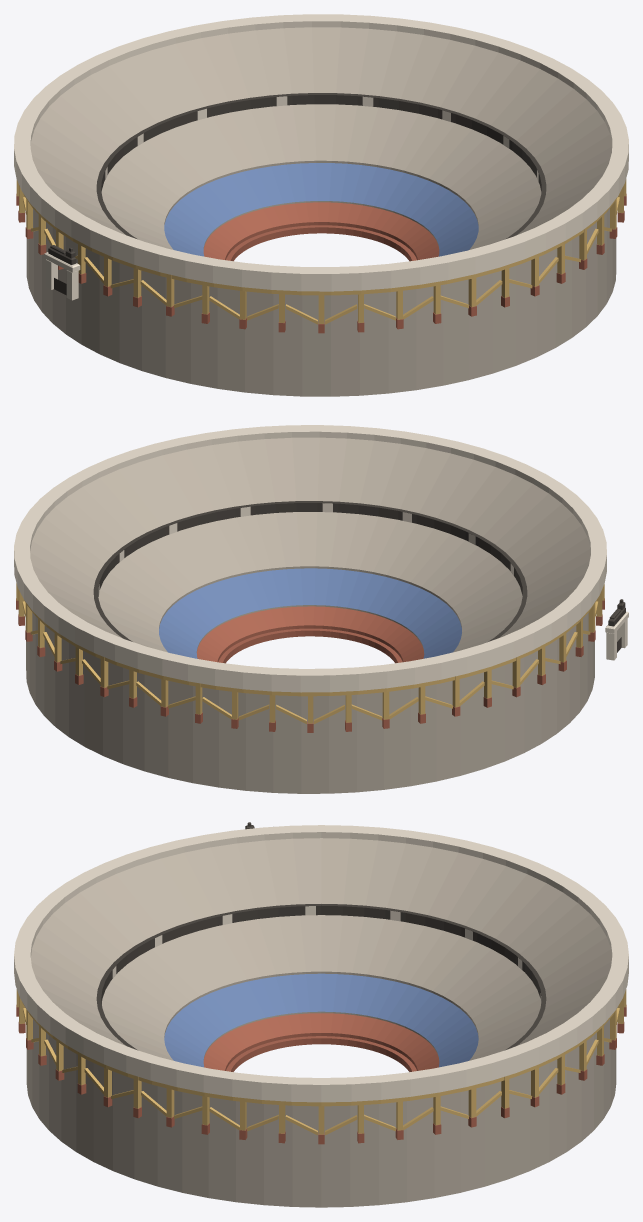
Rendered from mexico-city-plaza-mexico.glb.
3 views of the same model, one above another, from view 1: azimuth 30°, elevation 25°; view 2: azimuth 150°, elevation 25°; view 3: azimuth 270°, elevation 25° (orthographic). The views are drawn at different scales.
Parts seen in each view (by area): view 1: Plaza México; view 2: Plaza México; view 3: Plaza México.
Boxes of the visible parts, x1,y1,x2,y2 form: Plaza México: (14,14,628,396); Plaza México: (14,425,628,793); Plaza México: (14,822,628,1207).
Bounding box in the file's own units: 165 × 35.9 × 156.
